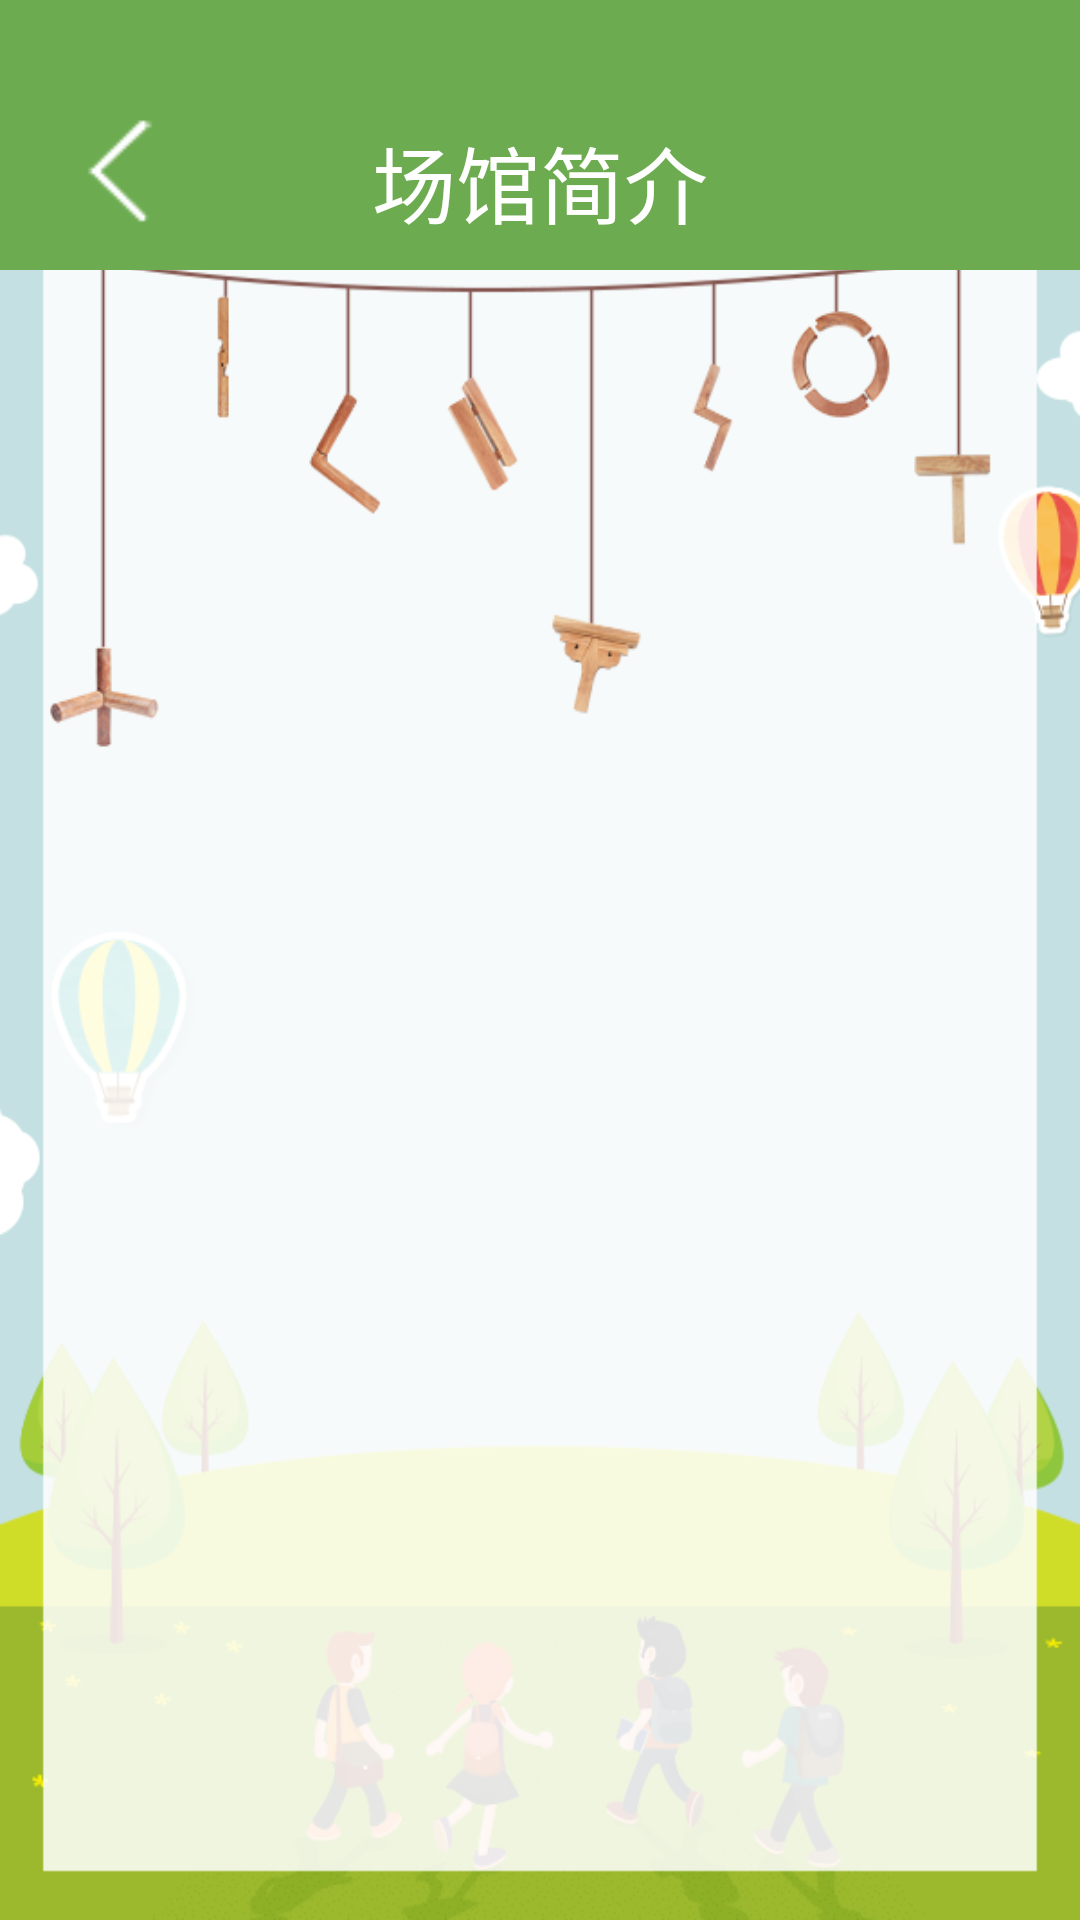

Icon click points for this 1080px×1920px phone screenshot, format (x=x, y=y):
dao back: (x=120, y=171)
